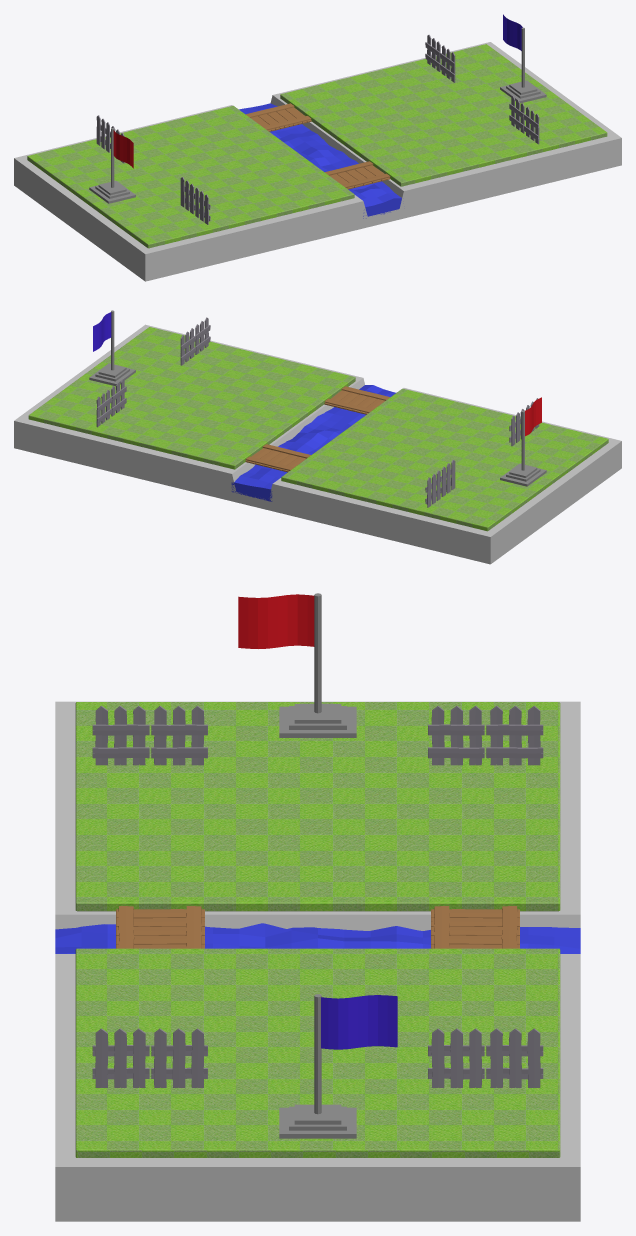
Rendered from new map2.fbx.
3 renders of one model, top to bottom at view 1: azimuth 30°, elevation 25°; view 2: azimuth 150°, elevation 25°; view 3: azimuth 270°, elevation 25°, orthographic. The views are drawn at different scales.
Visible parts, largest first — view 1: Plane.002, Plane.001, Plane.005, Plane.011, Plane.012, Plane.006, Plane.074, Plane.008, Plane.007, Cylinder; view 2: Plane.002, Plane.001, Plane.005, Plane.011, Plane.012, Plane.006, Plane.074, Plane.007, Cylinder, Plane.008; view 3: Plane.002, Plane.001, Plane.011, Plane.005, Plane.006, Plane.012, Plane.007, Plane.008, Plane.074, Cylinder.
Part boxes in pixels (<box>): Plane.002: <box>27,44,607,248</box>; Plane.001: <box>14,42,621,281</box>; Plane.005: <box>239,103,401,218</box>; Plane.011: <box>96,34,539,224</box>; Plane.012: <box>251,107,390,189</box>; Plane.006: <box>89,80,546,203</box>; Plane.074: <box>246,103,390,187</box>; Plane.008: <box>113,130,133,168</box>; Plane.007: <box>503,14,522,50</box>; Cylinder: <box>111,27,524,187</box>; Plane.002: <box>28,327,608,531</box>; Plane.001: <box>14,324,621,564</box>; Plane.005: <box>231,385,396,501</box>; Plane.011: <box>96,317,539,507</box>; Plane.012: <box>245,390,384,472</box>; Plane.006: <box>89,363,546,486</box>; Plane.074: <box>245,386,390,470</box>; Plane.007: <box>93,312,111,351</box>; Cylinder: <box>111,310,524,470</box>; Plane.008: <box>525,397,541,436</box>; Plane.002: <box>75,702,560,1157</box>; Plane.001: <box>55,701,580,1221</box>; Plane.011: <box>92,705,543,1087</box>; Plane.005: <box>55,923,580,953</box>; Plane.006: <box>279,704,356,1138</box>; Plane.012: <box>116,909,519,948</box>; Plane.007: <box>321,995,397,1049</box>; Plane.008: <box>238,594,314,648</box>; Plane.074: <box>118,906,517,948</box>; Cylinder: <box>314,593,321,1114</box>.
Size of the model in its own units: 1136 by 221 by 542.
